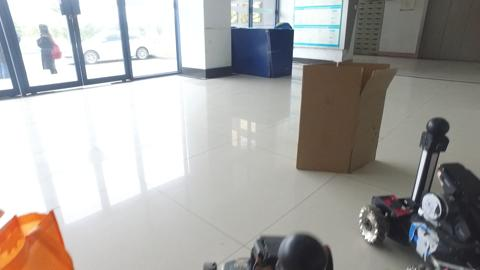box: (287, 55, 388, 173)
chariot: (356, 117, 479, 270)
